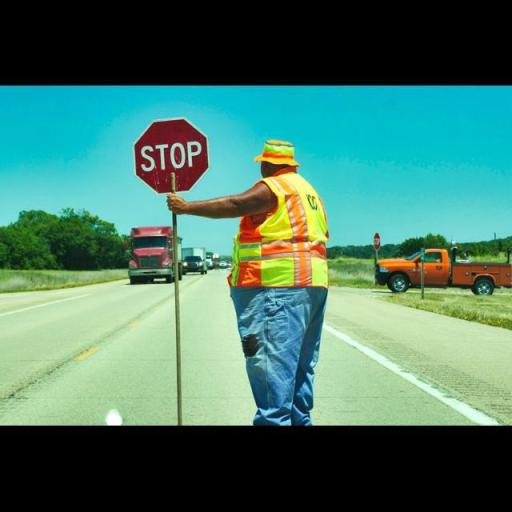Person: (202, 131, 359, 439)
helmet: (249, 136, 299, 169)
vest: (220, 177, 335, 296)
